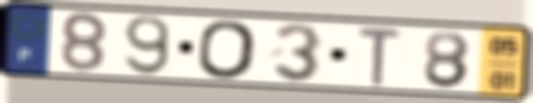3: (264, 22, 329, 84)
8: (420, 29, 472, 90), (59, 11, 108, 74)
9: (119, 14, 174, 78)
O: (197, 18, 260, 81)
T: (355, 24, 406, 88)
